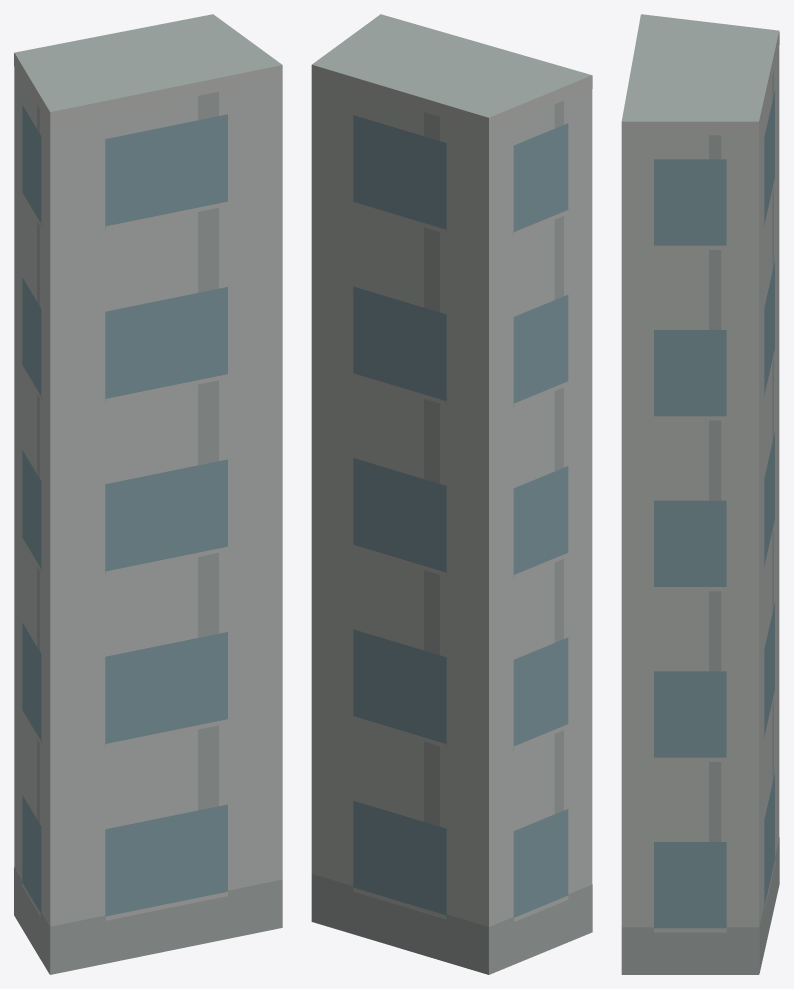
The model's file is survey-upis-32904046.glb.
The picture shows the model from 3 angles, left to right: view 1: azimuth 30°, elevation 25°; view 2: azimuth 150°, elevation 25°; view 3: azimuth 270°, elevation 25°; orthographic projection.
Parts seen in each view (by area): view 1: survey-upis-32904046.tmp; view 2: survey-upis-32904046.tmp; view 3: survey-upis-32904046.tmp.
Boxes of the visible parts, x1,y1,x2,y2 form: survey-upis-32904046.tmp: (14,14,282,974); survey-upis-32904046.tmp: (311,14,592,974); survey-upis-32904046.tmp: (621,14,779,974).
Size of the model in its own units: 4.14 by 15.25 by 2.57.
